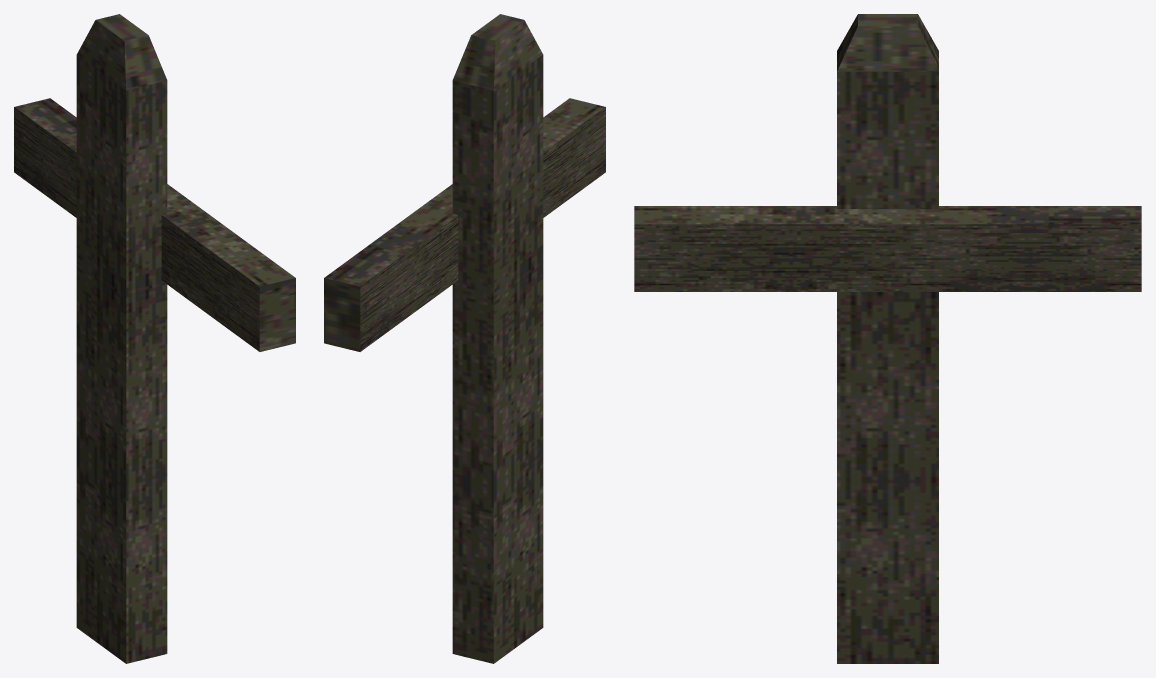
Rendered from Cross Grave2.glb.
3 views of the same model, side by side, from view 1: azimuth 30°, elevation 25°; view 2: azimuth 150°, elevation 25°; view 3: azimuth 270°, elevation 25° (orthographic). The views are drawn at different scales.
Parts seen in each view (by area): view 1: Cube; view 2: Cube; view 3: Cube.
Part boxes in pixels (x1=…): Cube: x1=14, y1=14, x2=295, y2=663; Cube: x1=324, y1=14, x2=605, y2=663; Cube: x1=634, y1=14, x2=1141, y2=663.
Size of the model in its own units: 0.2229 by 1.83 by 1.33.
1 material, 1 textured.
